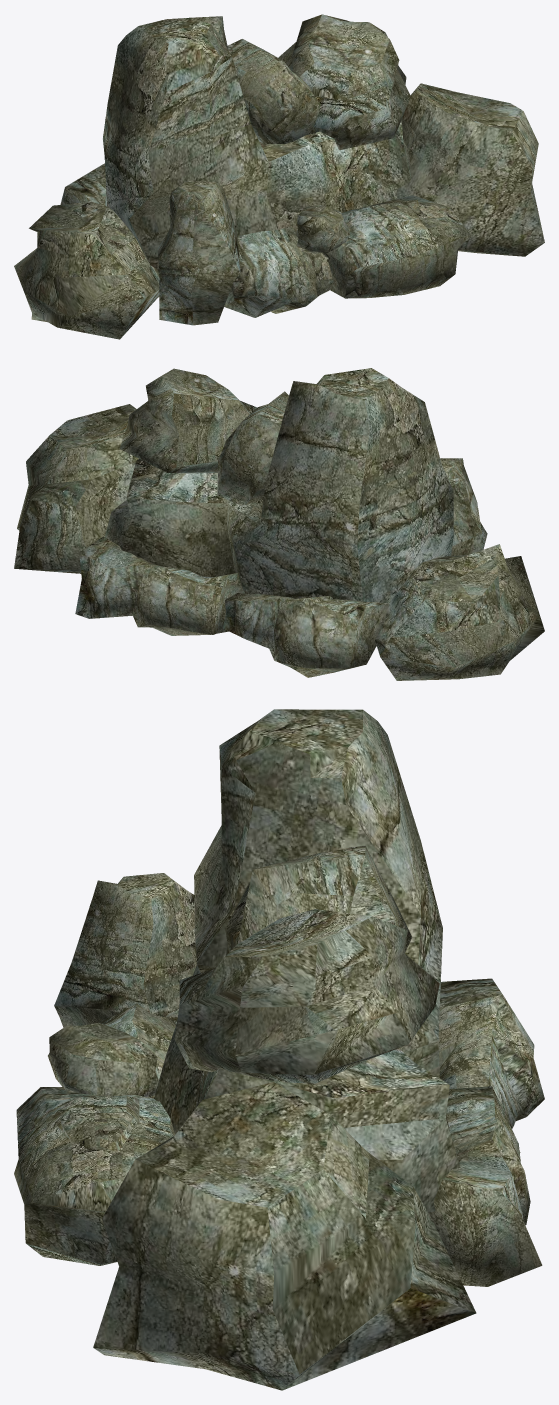
File: geo_rock_set_01_temperate_stonemine.glb
3 renders of one model, top to bottom at view 1: azimuth 30°, elevation 25°; view 2: azimuth 150°, elevation 25°; view 3: azimuth 270°, elevation 25°, orthographic. The views are drawn at different scales.
Parts seen in each view (by area): view 1: geo_rock_set_01_temperate_stonemine; view 2: geo_rock_set_01_temperate_stonemine; view 3: geo_rock_set_01_temperate_stonemine.
Boxes of the visible parts, x1,y1,x2,y2 form: geo_rock_set_01_temperate_stonemine: (14,14,544,339); geo_rock_set_01_temperate_stonemine: (14,368,544,680); geo_rock_set_01_temperate_stonemine: (14,709,544,1390).
Bounding box in the file's own units: 23.84 × 12.09 × 13.55.
1 material, 1 textured.
